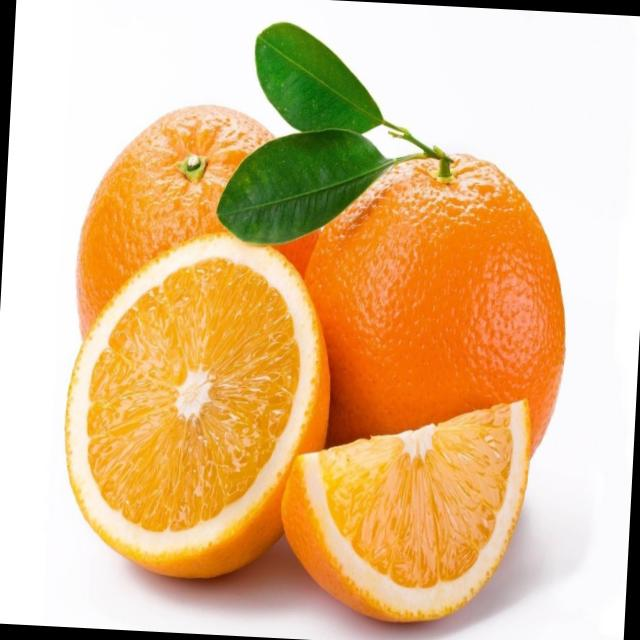orange: (272, 135, 585, 534), (62, 83, 355, 450)
